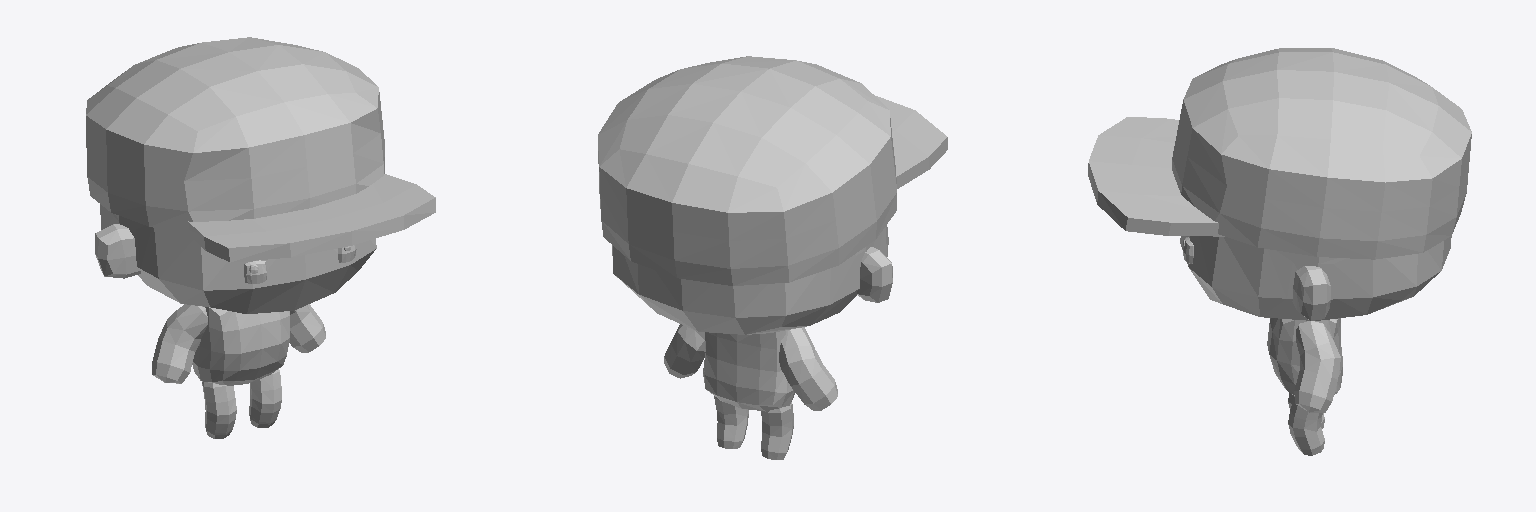
The model's file is idle_0015.obj.
3 renders of one model, left to right at view 1: azimuth 30°, elevation 25°; view 2: azimuth 150°, elevation 25°; view 3: azimuth 270°, elevation 25°, orthographic.
Parts seen in each view (by area): view 1: Object_41, Object_42, Object_36, Object_44, Object_38; view 2: Object_41, Object_44, Object_36, Object_42; view 3: Object_41, Object_36, Object_42, Object_44.
Part boxes in pixels (x1,y1,x2,y2): Object_41: (86, 37, 384, 232); Object_42: (184, 108, 435, 262); Object_36: (95, 204, 376, 313); Object_44: (152, 304, 325, 438); Object_38: (244, 245, 356, 283); Object_41: (598, 56, 896, 285); Object_44: (664, 324, 837, 459); Object_36: (612, 225, 892, 334); Object_42: (876, 96, 947, 188); Object_41: (1183, 48, 1471, 259); Object_36: (1180, 236, 1451, 320); Object_42: (1088, 100, 1226, 236); Object_44: (1267, 318, 1342, 455).
Bounding box in the file's own units: 0.9691 × 1.22 × 1.14.